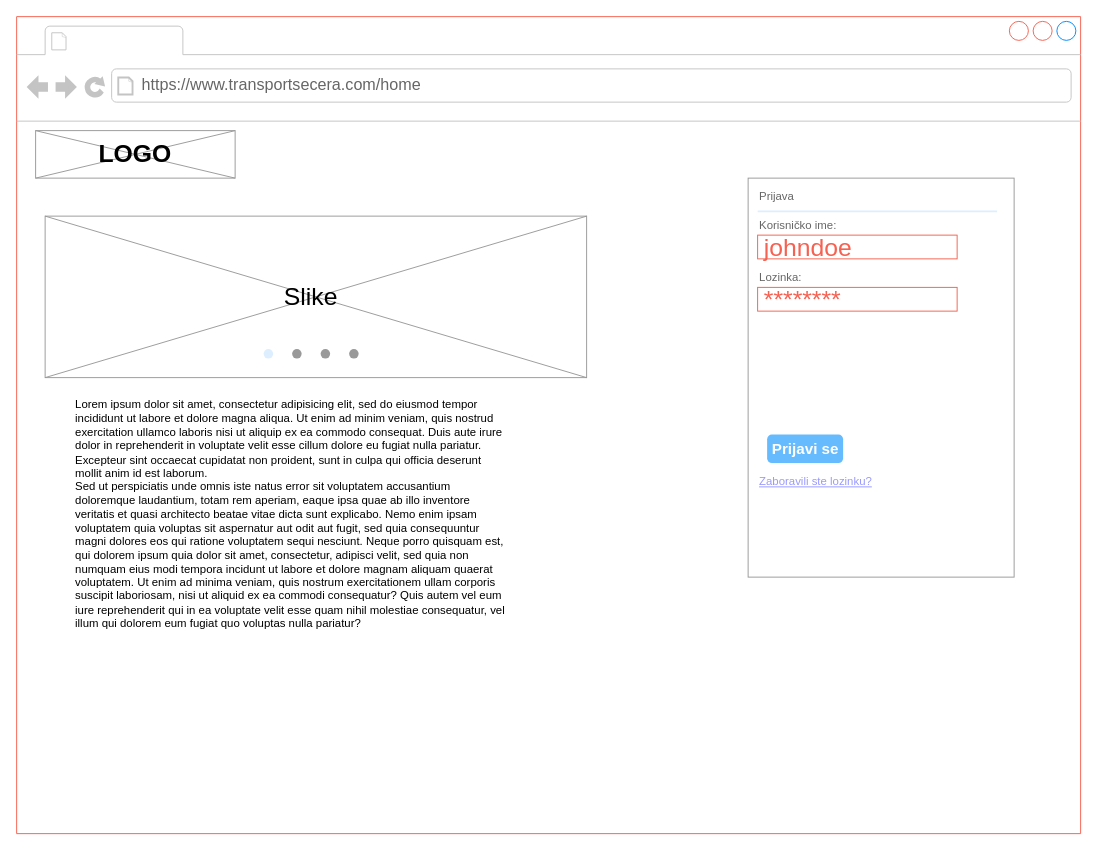
This 1097x850 diagram has some shape labels left out. The box of each missing label's shape, as (x1, y1, x2, y2) in pixels:
Pogrešno uneti podaci za prijavu. Pokušajte ponovo.: (747, 177, 1014, 577)
Transport šećera: (73, 27, 178, 53)
